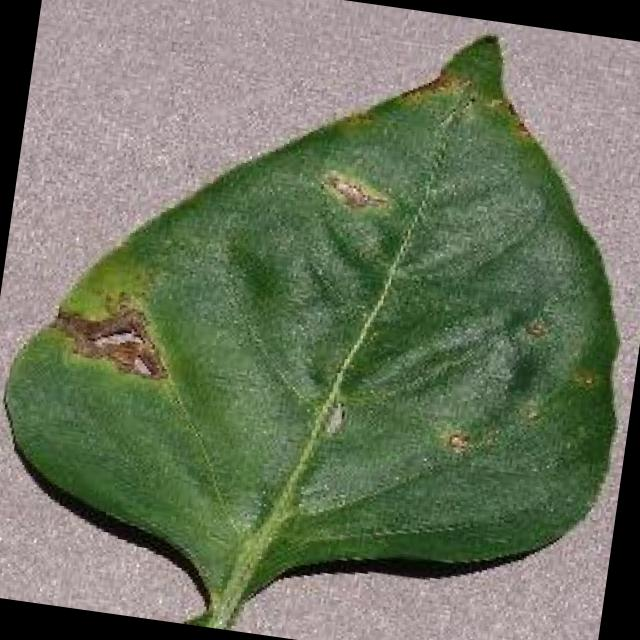Chilli_Bacterial_Spot: (0, 0, 640, 640), (43, 290, 178, 387), (312, 164, 393, 221), (508, 299, 562, 353), (324, 172, 381, 214), (316, 393, 352, 442), (122, 344, 166, 384), (510, 390, 547, 430), (517, 310, 553, 344), (566, 360, 602, 394), (440, 426, 474, 456)
